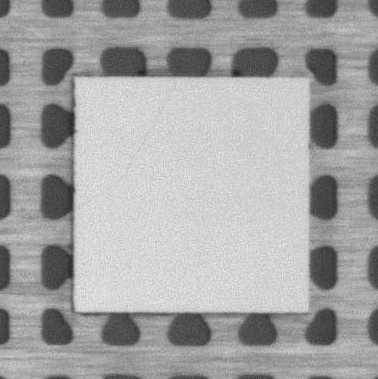DIE_CRACK: (77, 79, 179, 208)
